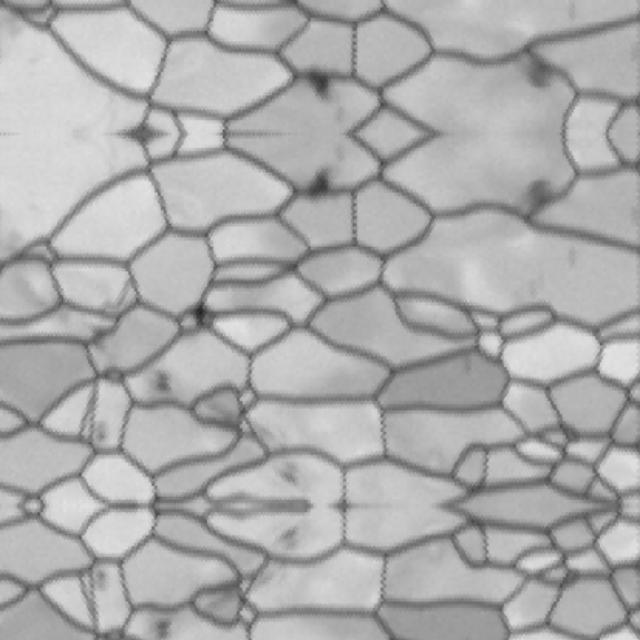good_void: (519, 48, 557, 94), (519, 175, 557, 220), (303, 66, 336, 102), (303, 167, 336, 202), (278, 456, 304, 491), (278, 523, 304, 558), (187, 302, 213, 334), (93, 415, 114, 448), (93, 566, 114, 599), (560, 246, 581, 273), (560, 0, 581, 23), (154, 373, 173, 397), (154, 617, 173, 640)
